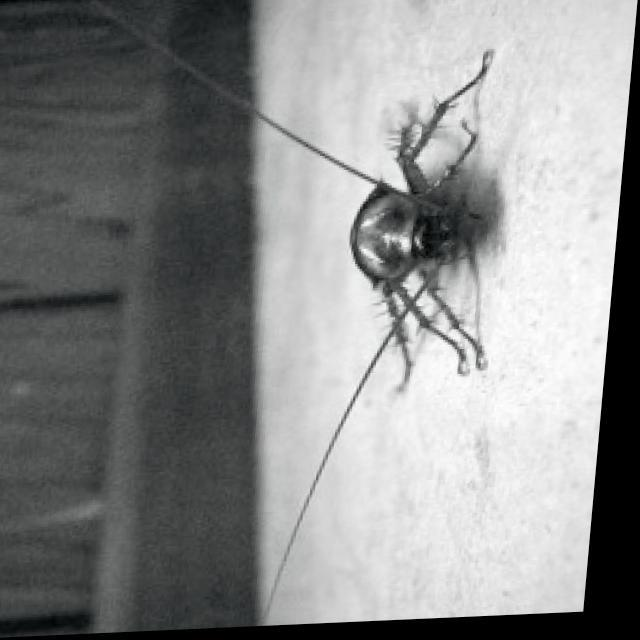cockroach: (250, 45, 509, 622)
